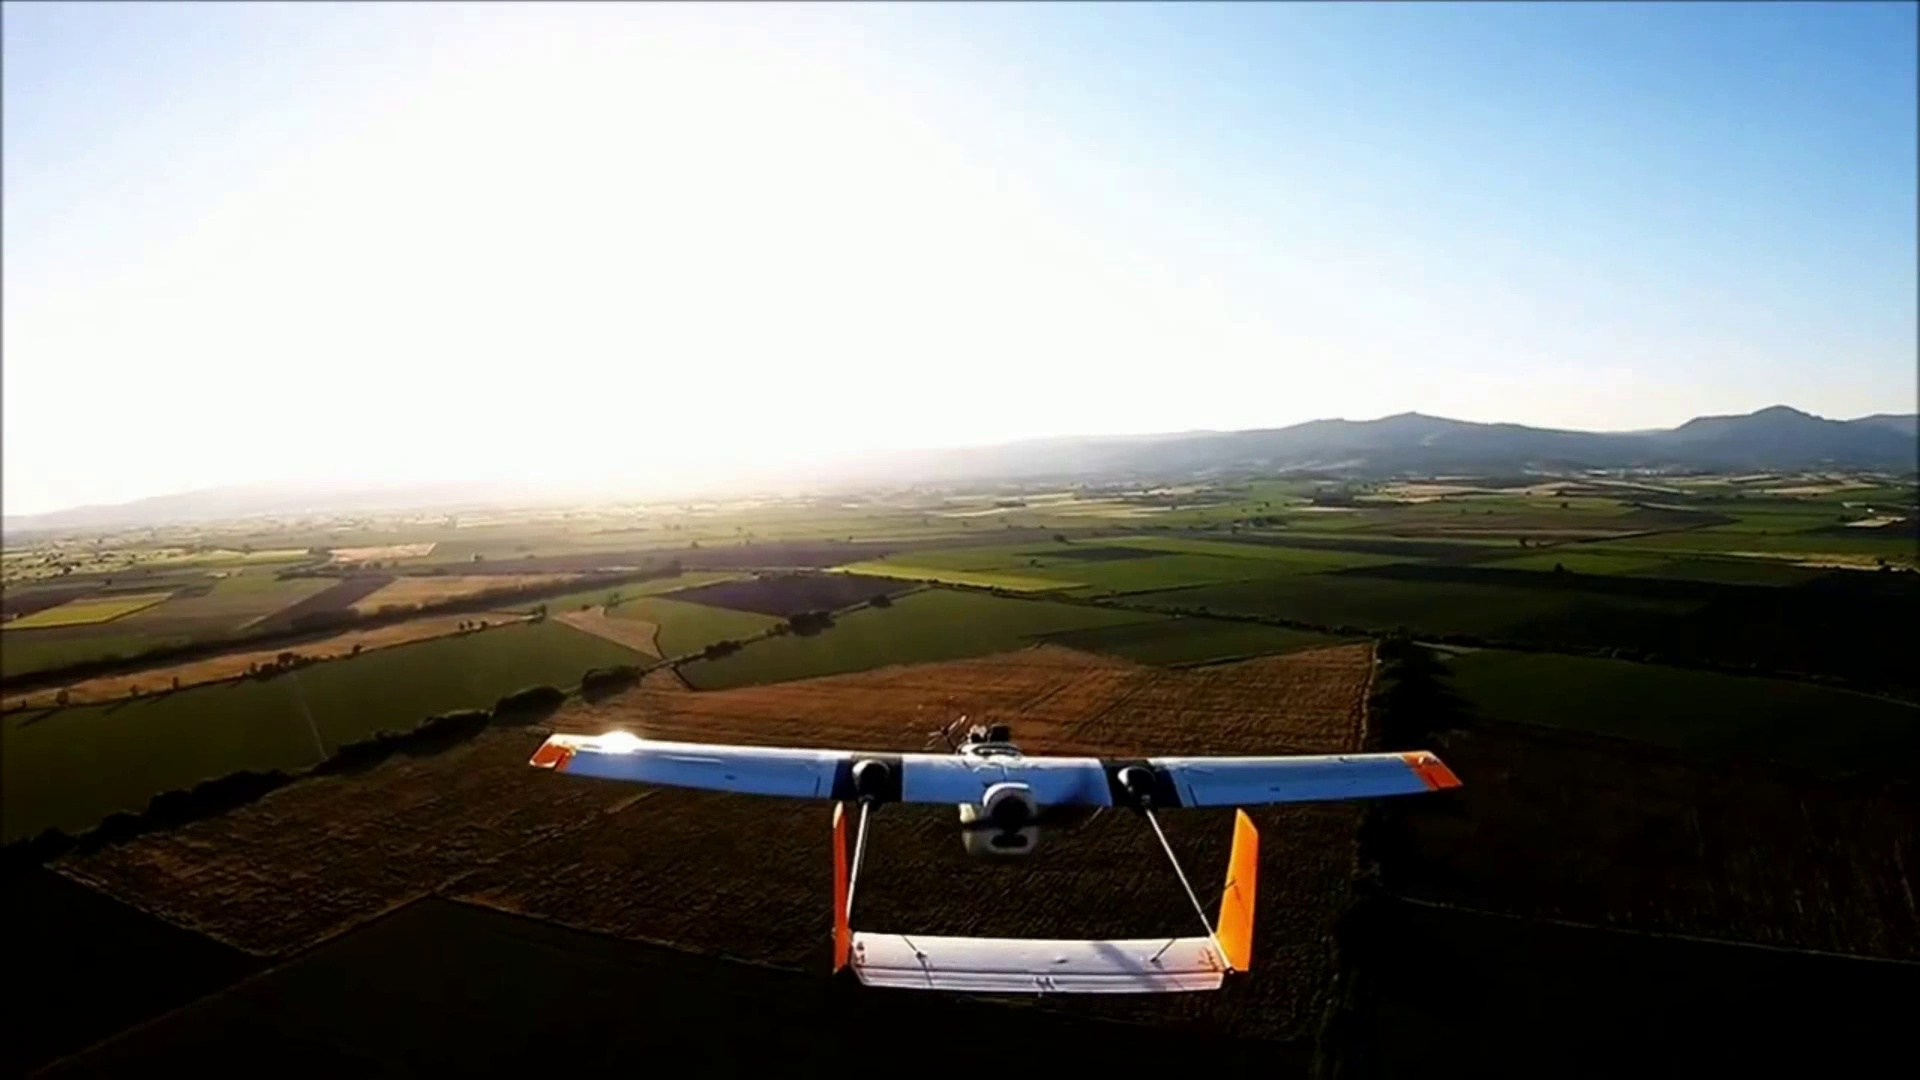airplane: (531, 721, 1458, 1000)
